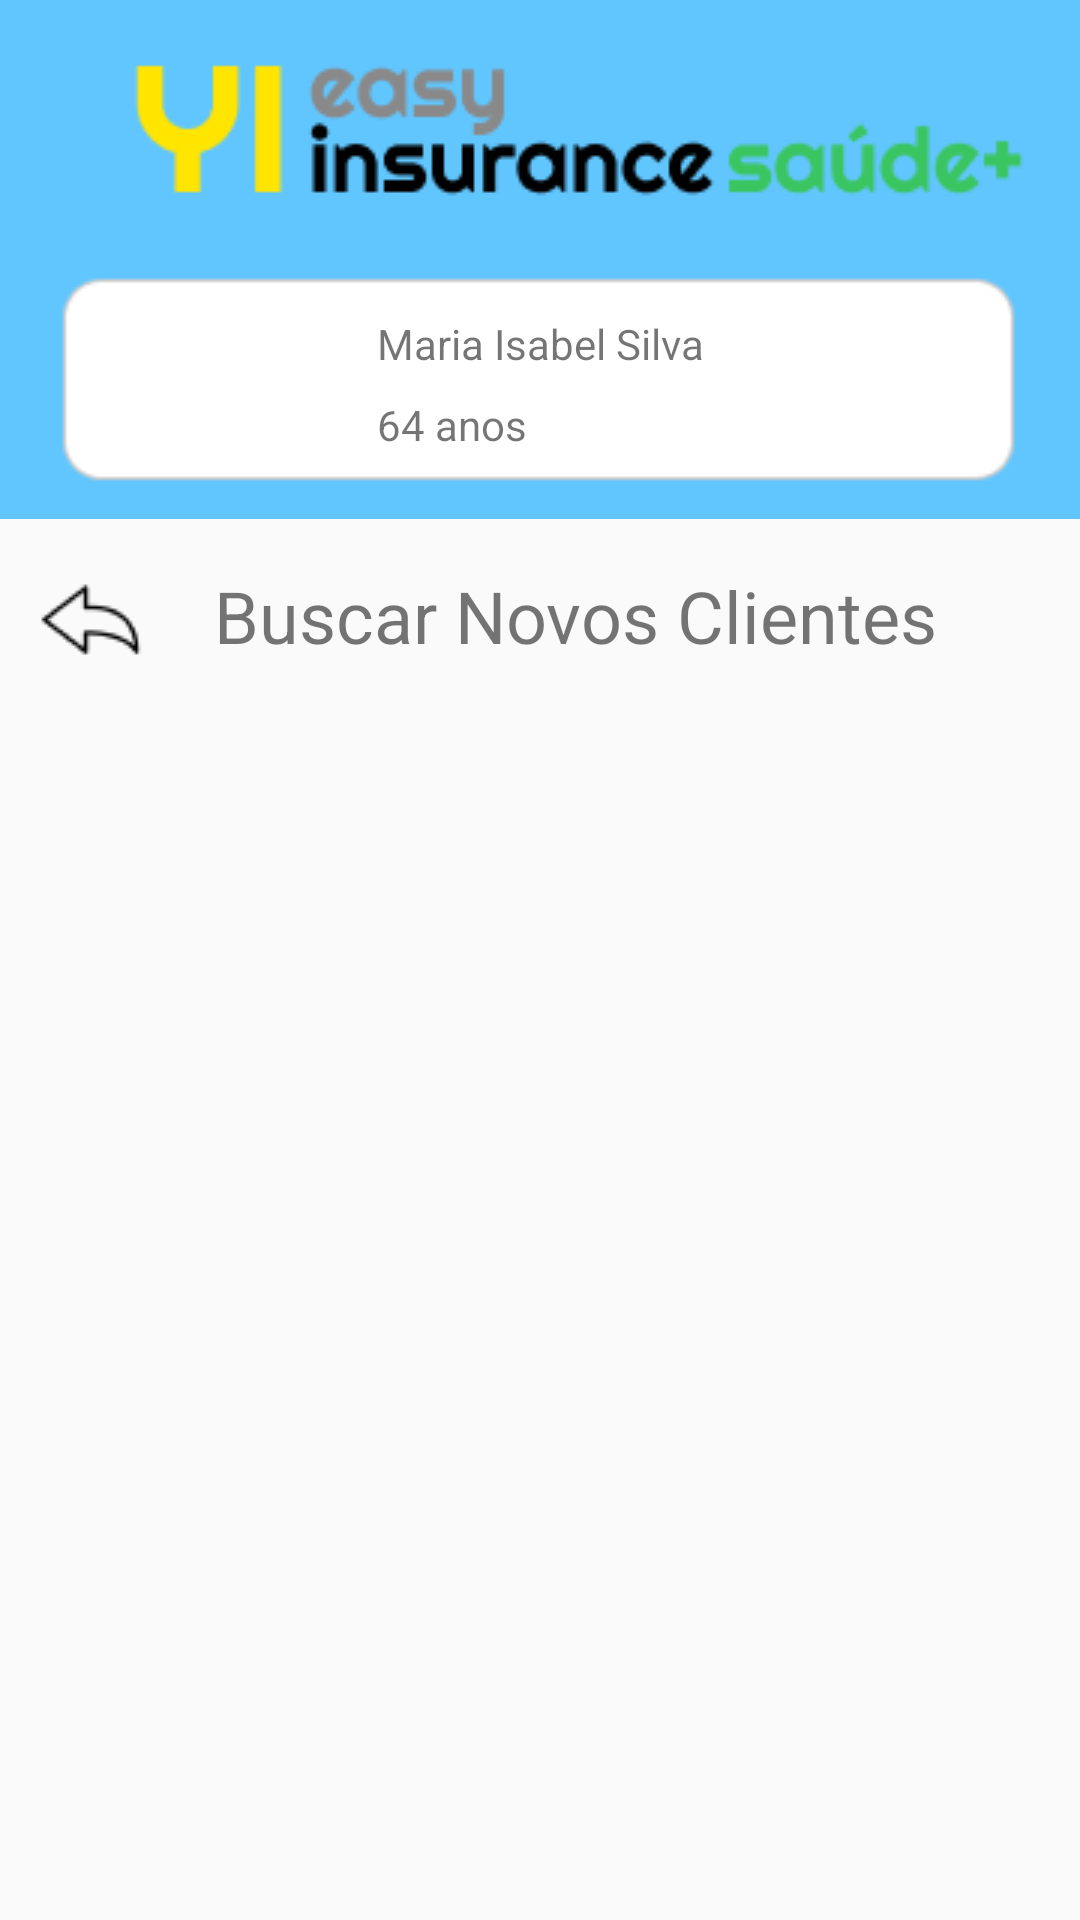

Icons on this 1080px x 1920px Android screen, each with its box as bbox=[x1, y1, x2, y2]:
back: bbox=[41, 584, 141, 655]
